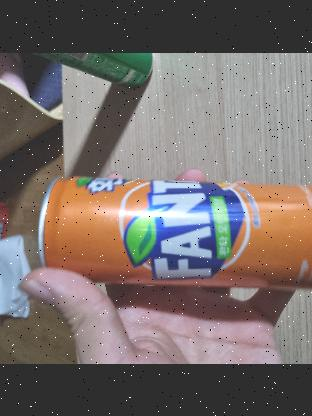Can: (31, 174, 312, 295)
